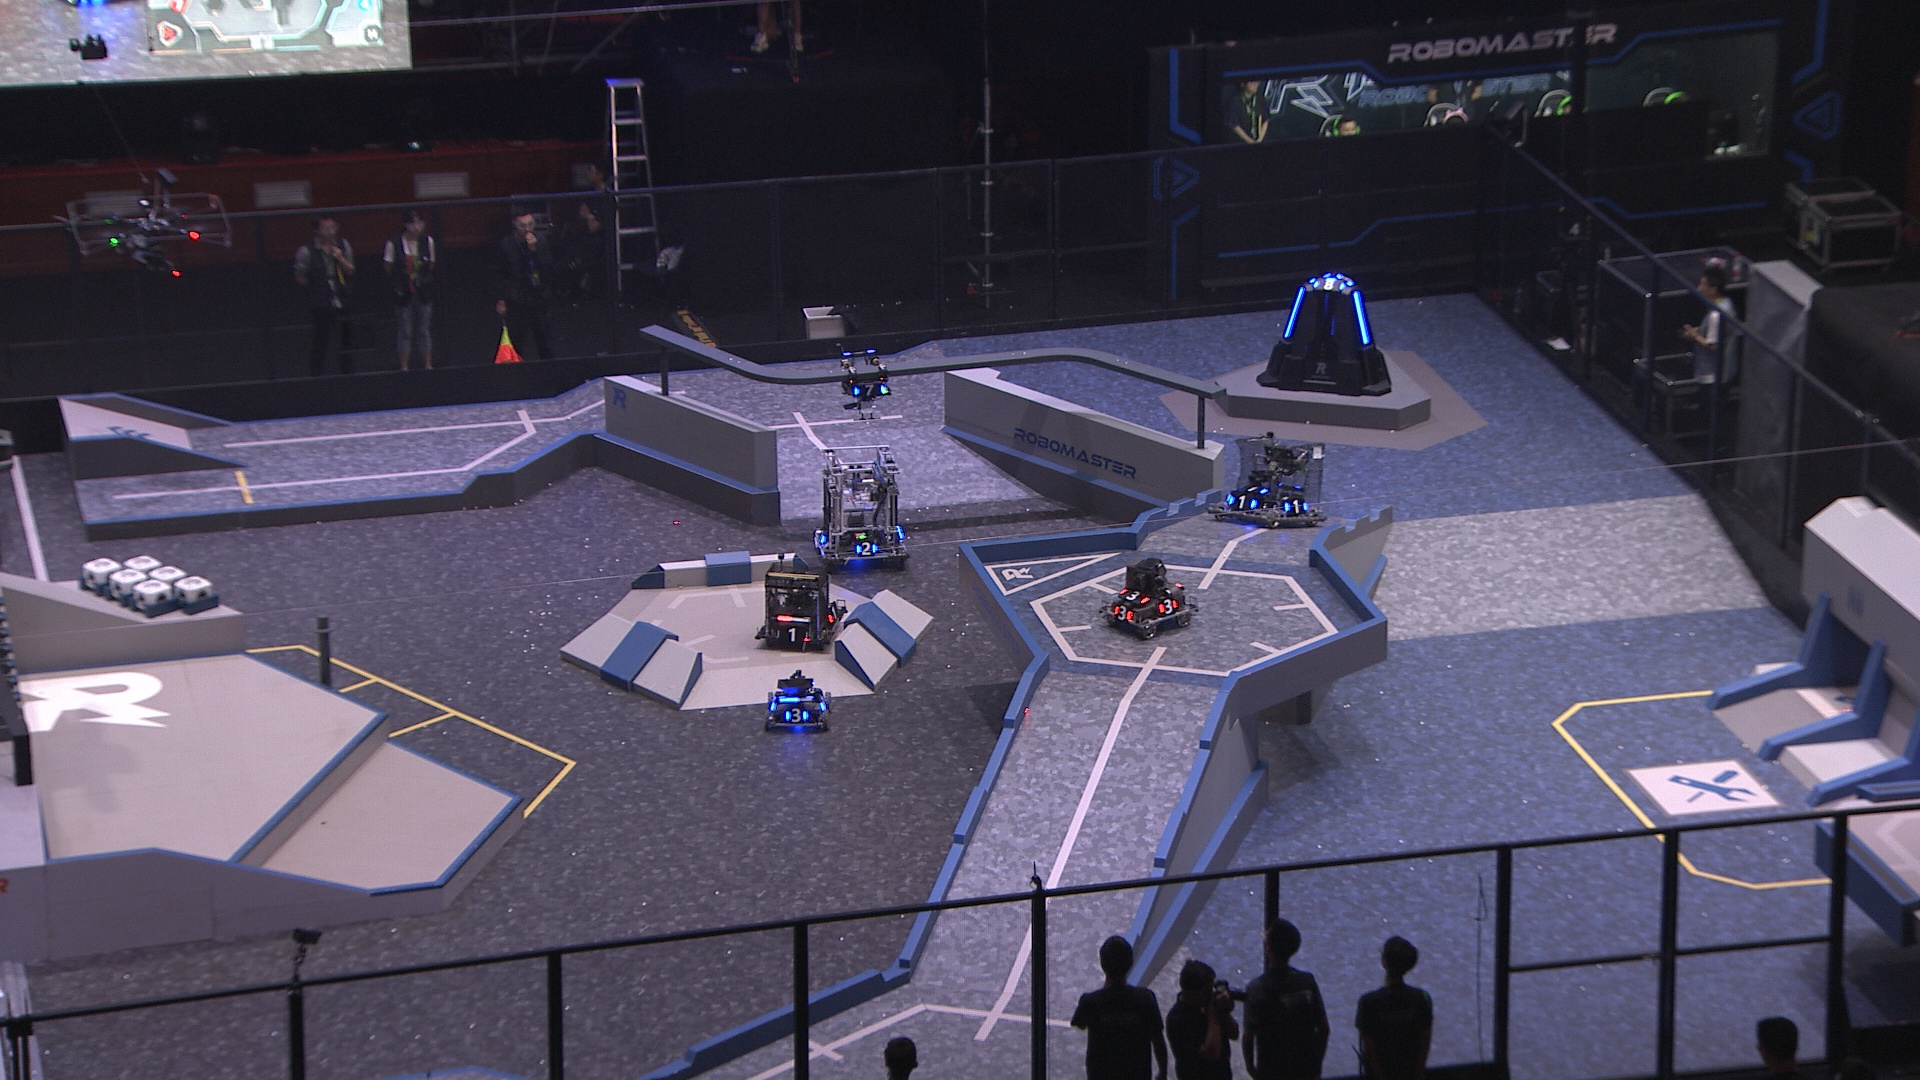armor: (1278, 282, 1307, 342), (1349, 287, 1371, 348), (1309, 273, 1346, 294), (851, 381, 891, 400), (773, 626, 811, 645), (1117, 585, 1150, 604), (1228, 495, 1262, 510), (1282, 496, 1309, 514), (823, 604, 844, 626), (1155, 595, 1178, 616), (855, 541, 880, 559), (782, 705, 808, 723), (1112, 603, 1134, 622), (1240, 483, 1269, 496), (812, 527, 827, 551), (1335, 272, 1356, 287), (816, 692, 829, 713)
base: (1254, 266, 1393, 401)
car: (1207, 429, 1329, 534), (807, 447, 911, 571), (756, 547, 851, 651), (1098, 556, 1195, 644), (756, 669, 833, 735)
watcher: (833, 339, 891, 419)
